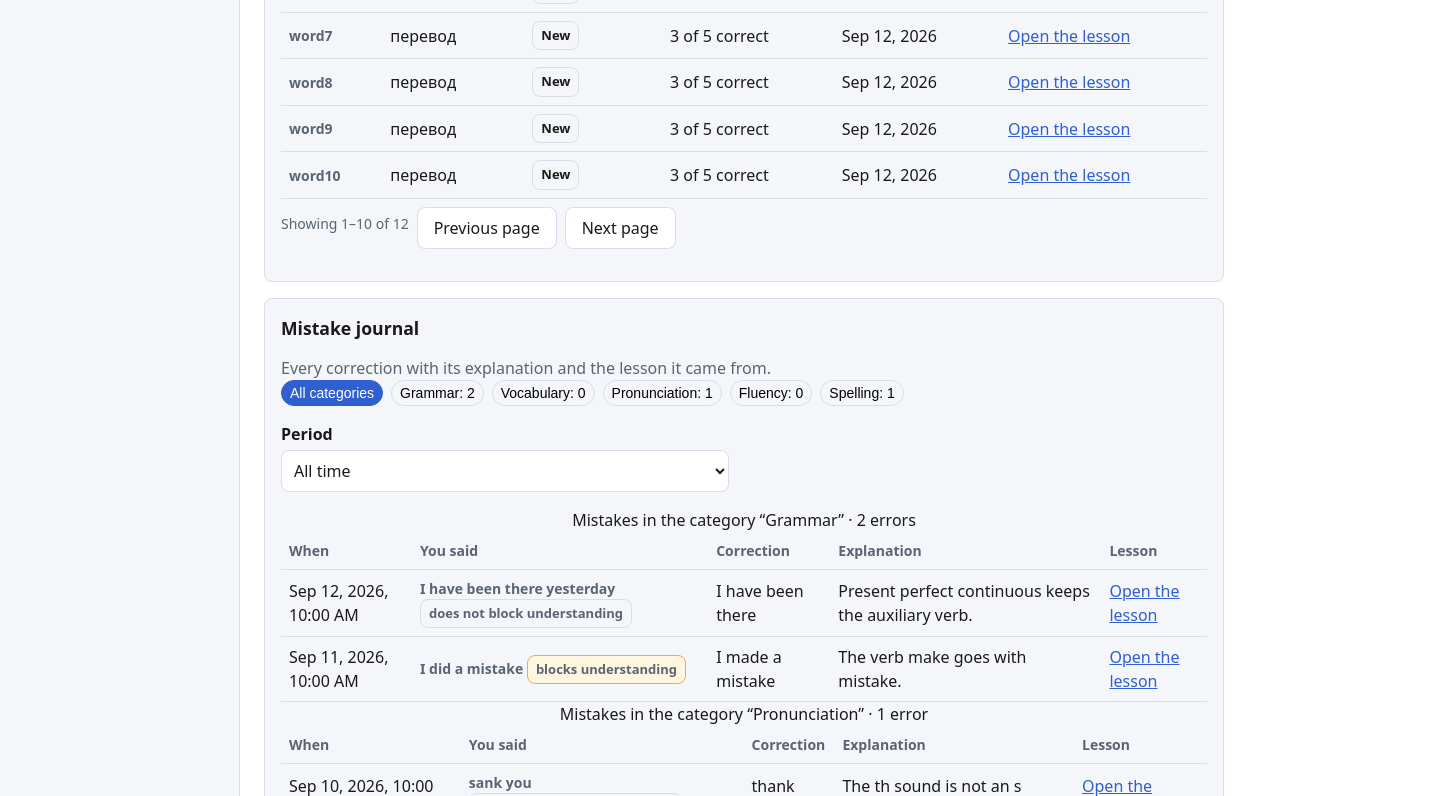
Test: фильтры журнала ошибок › оставляет переключатели соседних категорий доступными при выбранной категории
(page scrolled)
Expected: the text "I did a mistake" is shown, top-left (420, 659), bottom-right (523, 678)
Click the button "Grammar: 2": (437, 393) top-left (391, 380), bottom-right (484, 406)
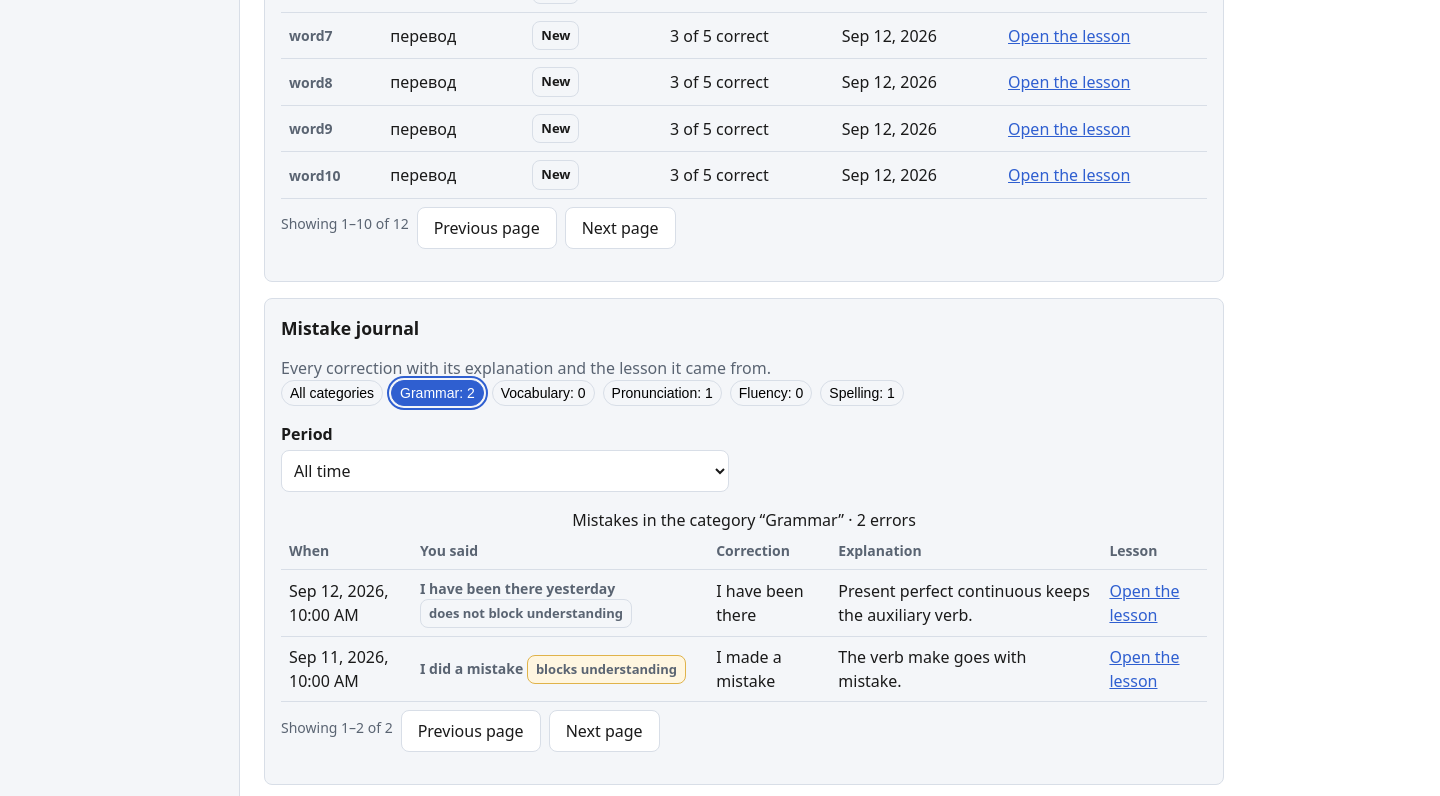
Click the button "Pronunciation: 1": (662, 393) top-left (603, 380), bottom-right (722, 406)
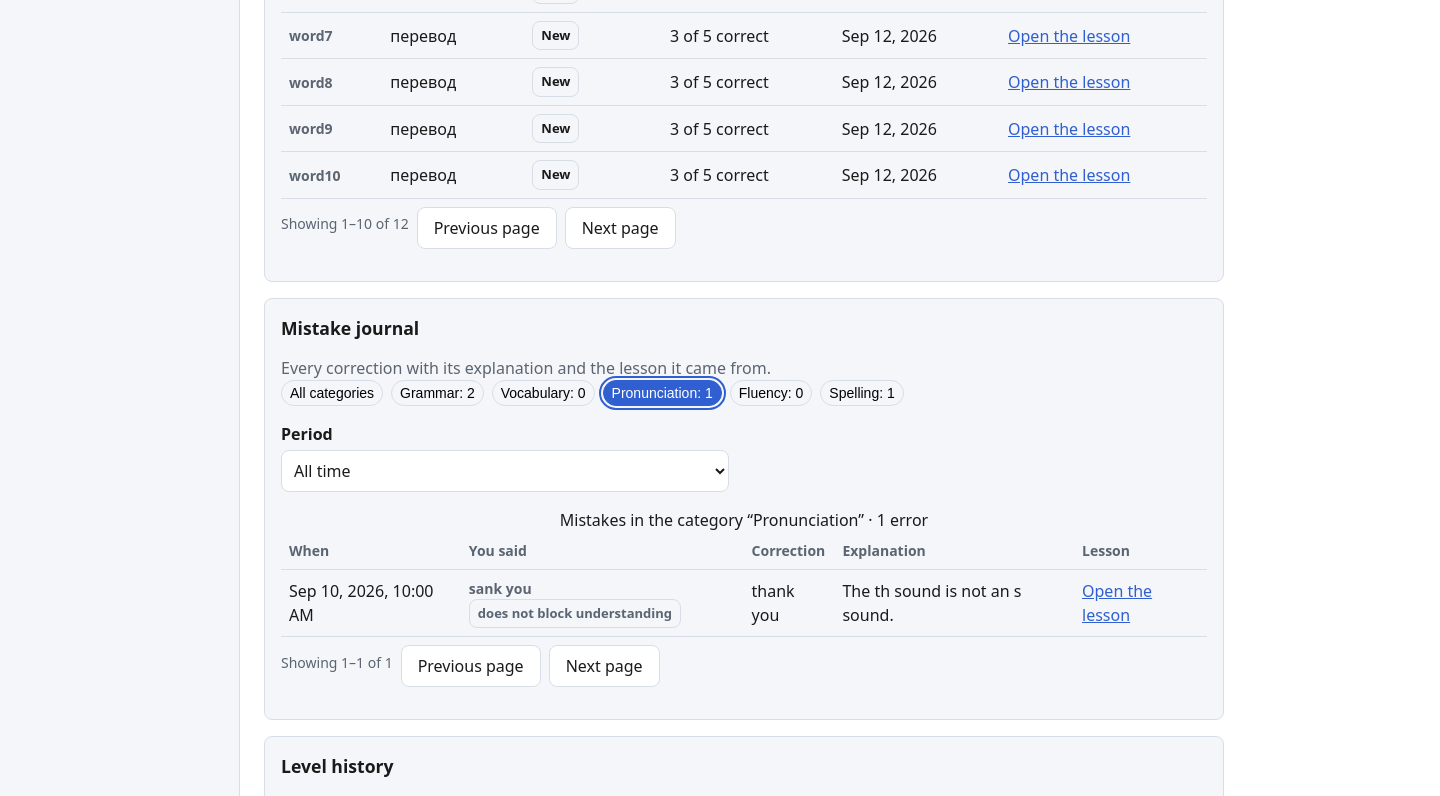
Expected: the text "sank you" is shown, top-left (469, 579), bottom-right (532, 598)
